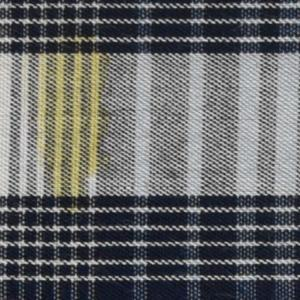Stain: (33, 36, 113, 217)
